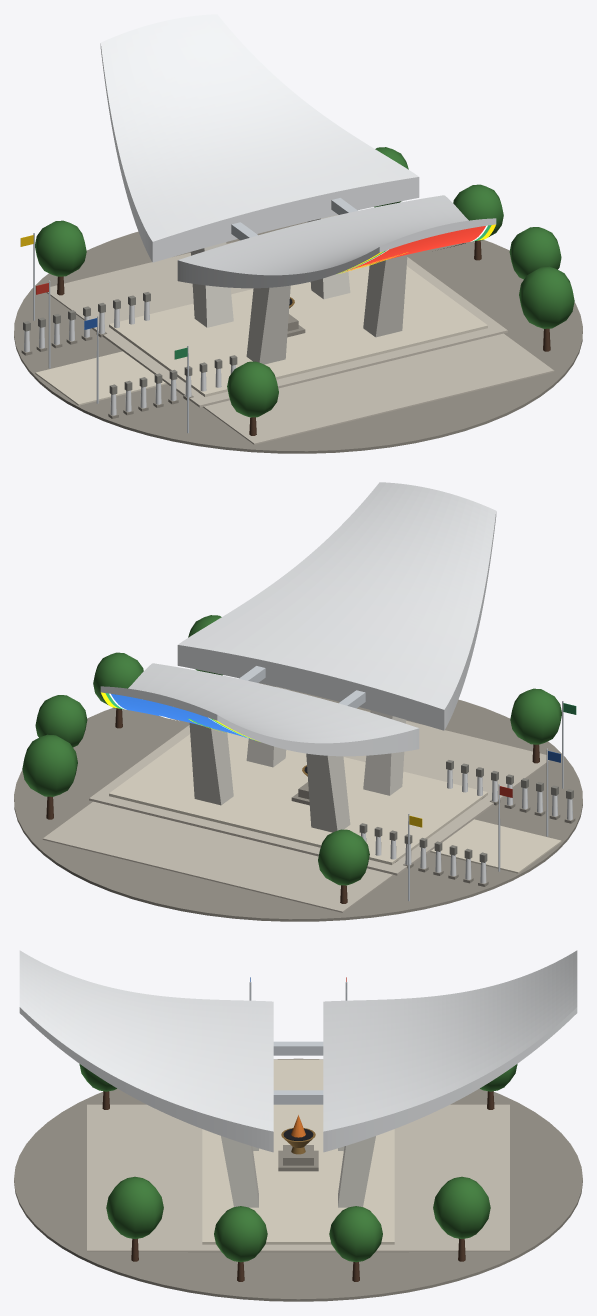
The model's file is world-peace-gate.glb.
The picture shows the model from 3 angles, top to bottom: view 1: azimuth 30°, elevation 25°; view 2: azimuth 150°, elevation 25°; view 3: azimuth 270°, elevation 25°; orthographic projection.
Size of the model in its own units: 59.2 by 24 by 59.2.
